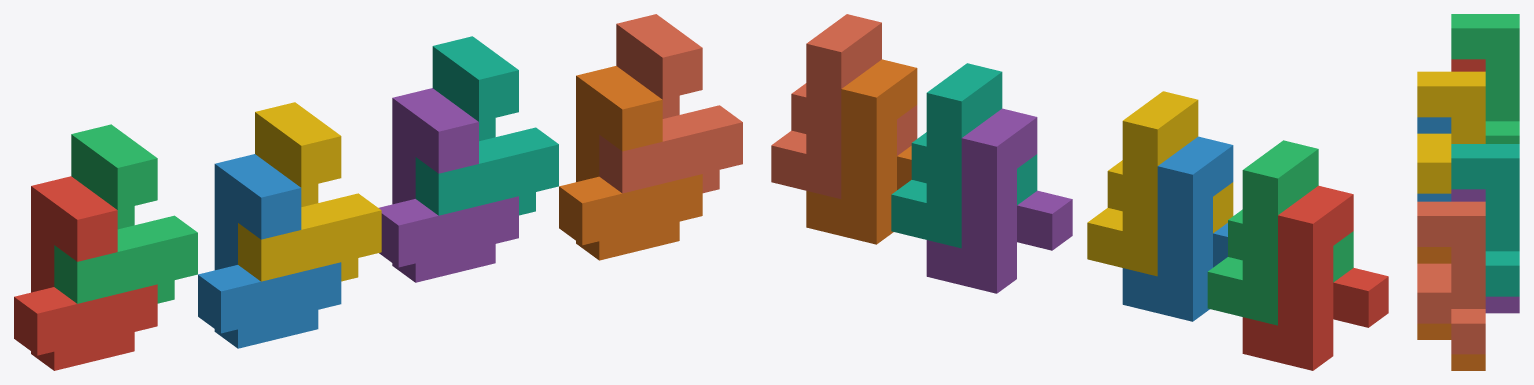
Rendered from tiling.obj.
3 views of the same model, side by side, from view 1: azimuth 30°, elevation 25°; view 2: azimuth 150°, elevation 25°; view 3: azimuth 270°, elevation 25° (orthographic). The views are drawn at different scales.
Parts seen in each view (by area): view 1: copy_1_domain_2, copy_1_domain_6, copy_1_domain_1, copy_1_domain_5, copy_1_domain_8, copy_1_domain_3, copy_1_domain_4, copy_1_domain_7; view 2: copy_1_domain_5, copy_1_domain_1, copy_1_domain_2, copy_1_domain_6, copy_1_domain_7, copy_1_domain_4, copy_1_domain_8, copy_1_domain_3; view 3: copy_1_domain_8, copy_1_domain_7, copy_1_domain_4, copy_1_domain_3, copy_1_domain_6, copy_1_domain_5, copy_1_domain_2, copy_1_domain_1.
Part boxes in pixels (box(x1,y1,x2,y2)): copy_1_domain_2: box(198, 154, 341, 348); copy_1_domain_6: box(559, 66, 702, 260); copy_1_domain_1: box(14, 176, 157, 370); copy_1_domain_5: box(379, 88, 518, 282); copy_1_domain_8: box(599, 14, 742, 193); copy_1_domain_3: box(54, 124, 197, 303); copy_1_domain_4: box(238, 102, 381, 281); copy_1_domain_7: box(415, 36, 558, 215); copy_1_domain_5: box(926, 108, 1072, 293); copy_1_domain_1: box(1242, 185, 1388, 370); copy_1_domain_2: box(1122, 136, 1233, 321); copy_1_domain_6: box(806, 59, 917, 244); copy_1_domain_7: box(891, 63, 1037, 248); copy_1_domain_4: box(1087, 91, 1233, 276); copy_1_domain_8: box(771, 14, 917, 198); copy_1_domain_3: box(1207, 140, 1353, 325); copy_1_domain_8: box(1417, 201, 1485, 354); copy_1_domain_7: box(1451, 144, 1519, 296); copy_1_domain_4: box(1417, 71, 1485, 193); copy_1_domain_3: box(1451, 14, 1519, 143); copy_1_domain_6: box(1417, 247, 1485, 370); copy_1_domain_5: box(1451, 189, 1519, 313); copy_1_domain_2: box(1417, 117, 1451, 201); copy_1_domain_1: box(1451, 59, 1485, 71).
Bounding box in the file's own units: 17 × 5 × 3.
